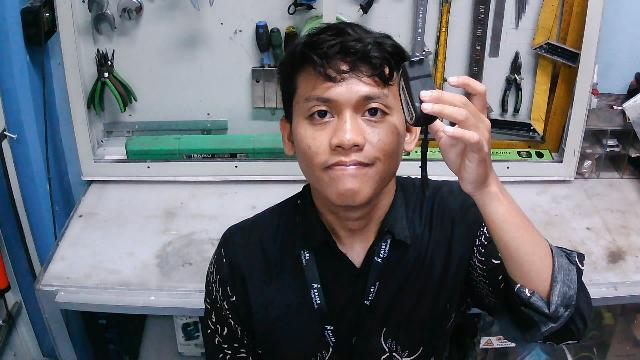meteran: (395, 47, 447, 197)
